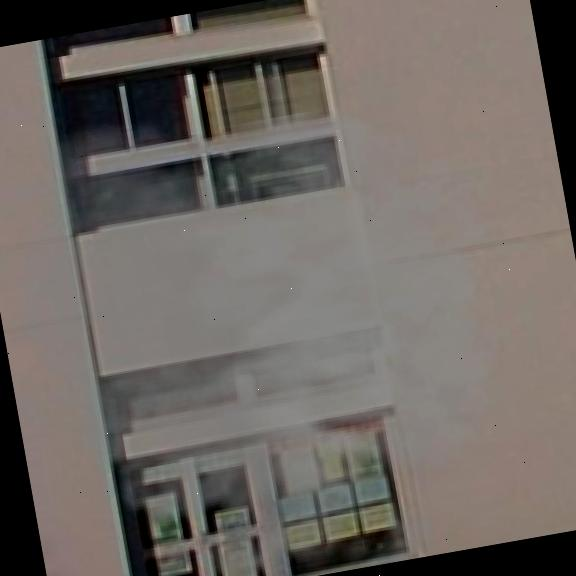smoke: (0, 39, 576, 576)
